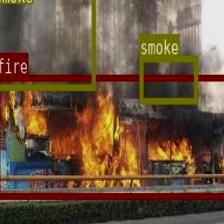fire: (0, 74, 224, 198)
smoke: (0, 0, 95, 88), (139, 56, 197, 103)
